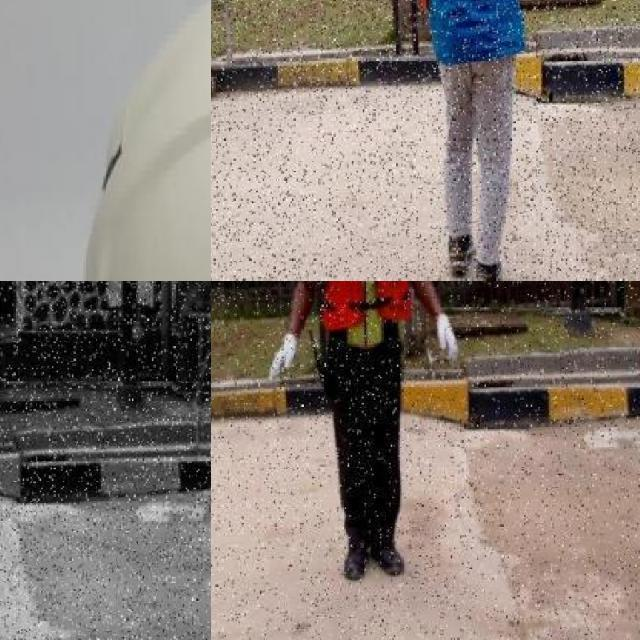apron: (268, 331, 300, 384), (432, 310, 462, 362)
